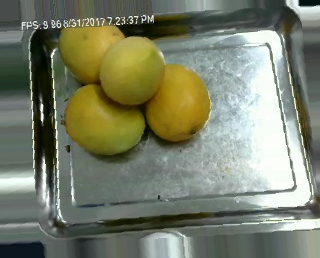Mango: (67, 81, 146, 156), (141, 64, 211, 140), (59, 21, 133, 83), (100, 36, 167, 104)
